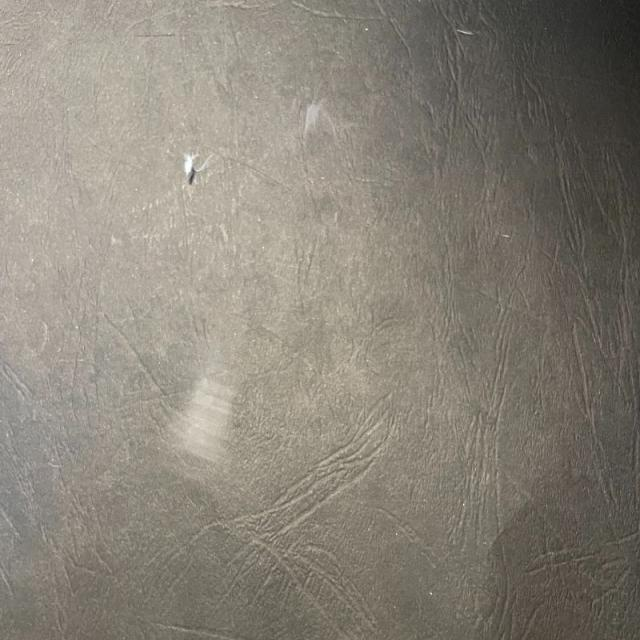feather: (178, 146, 203, 176)
